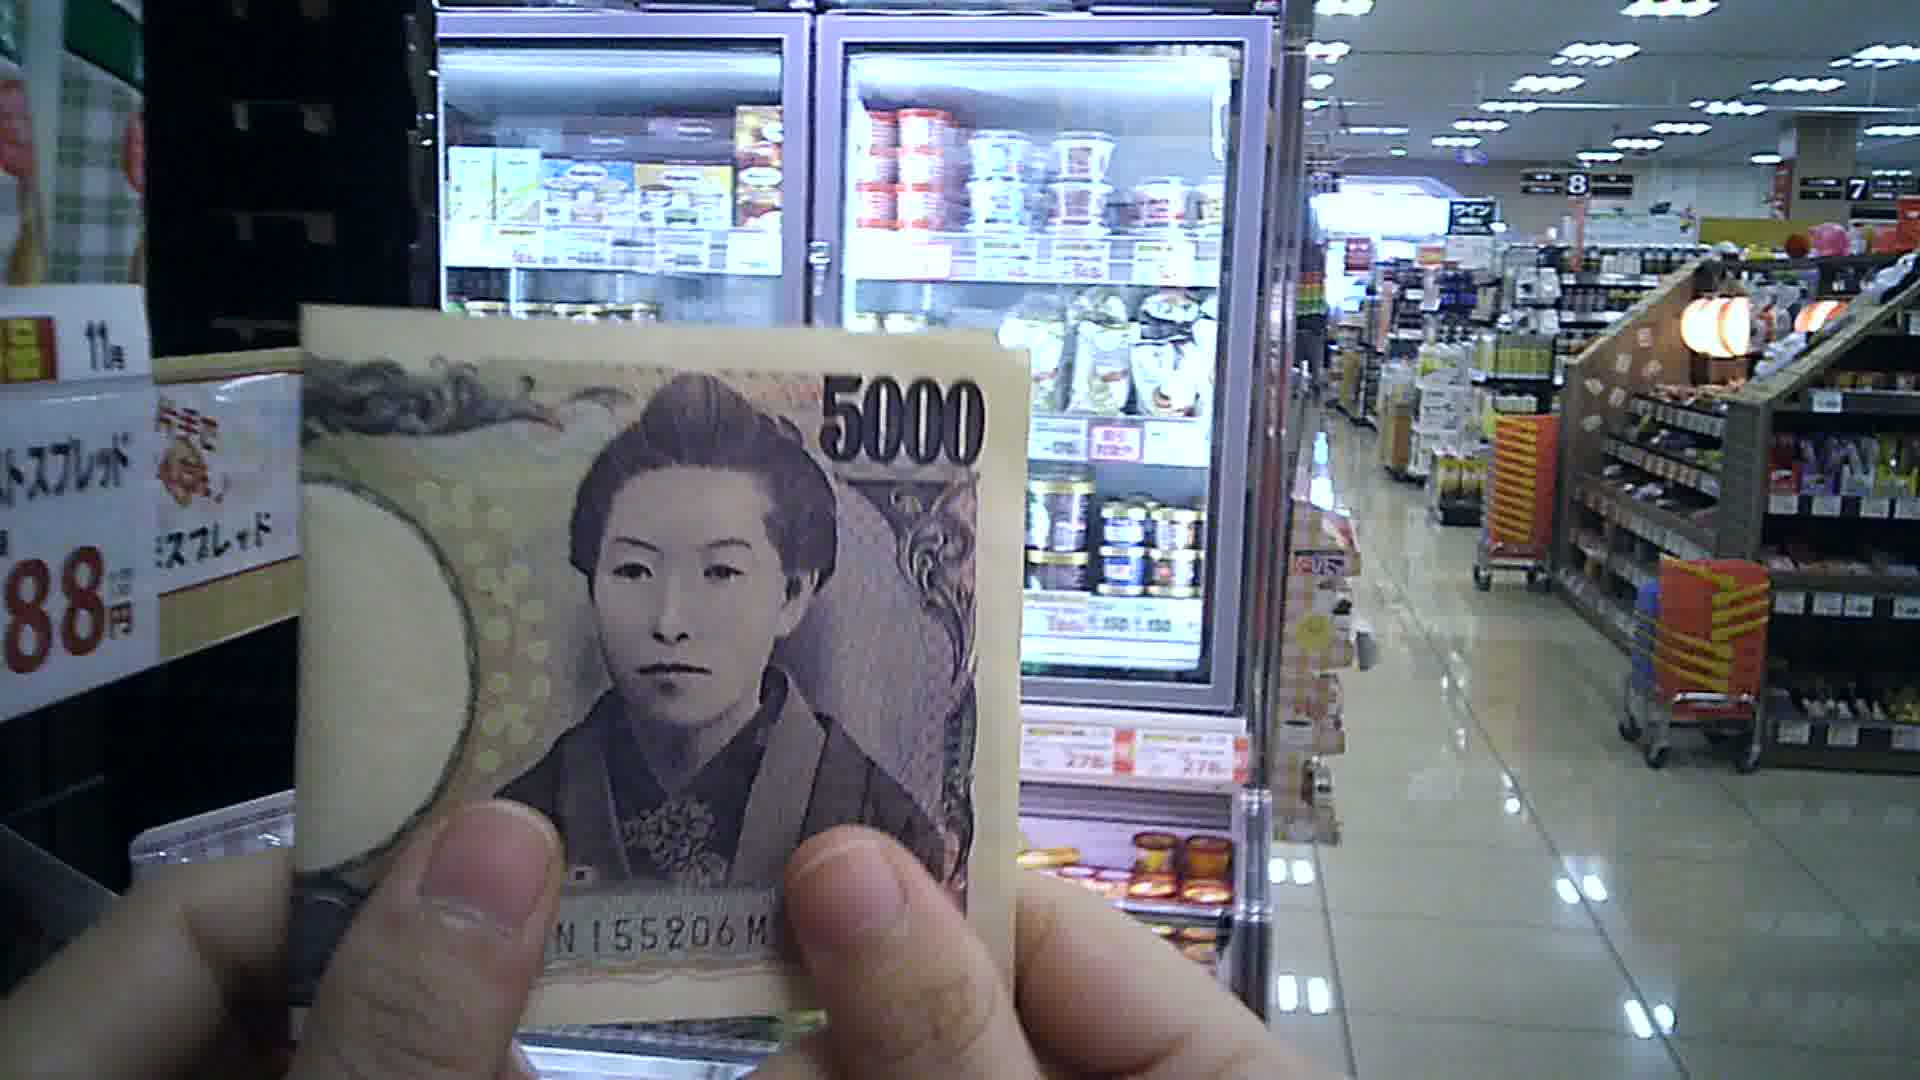5,000 Yen: (269, 284, 1033, 1038)
